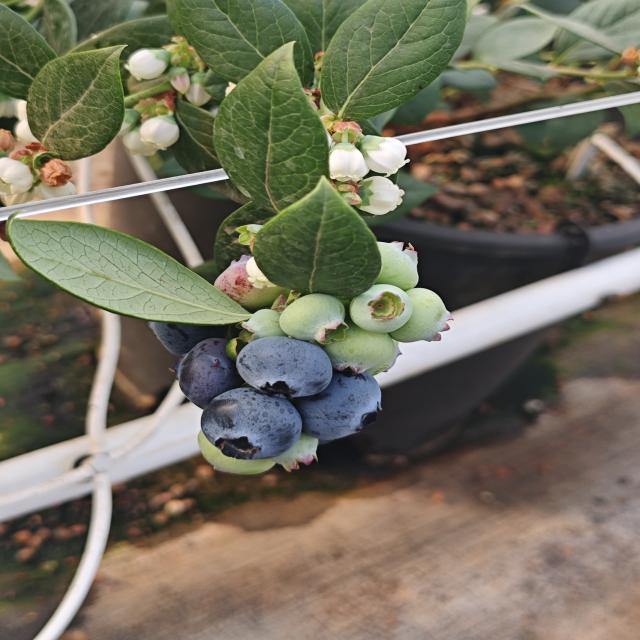ripe: (197, 386, 305, 463), (232, 335, 335, 400), (306, 371, 386, 438), (144, 304, 240, 357), (172, 345, 249, 400)
